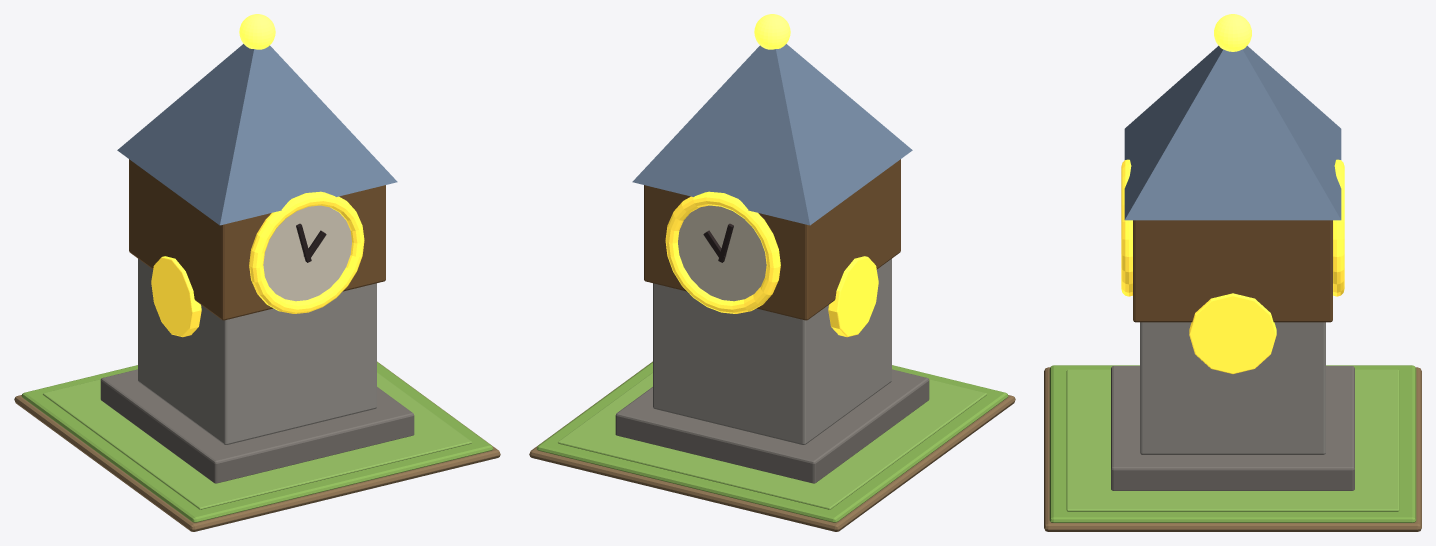
The model's file is clock_tower_lv6.glb.
3 renders of one model, left to right at view 1: azimuth 30°, elevation 25°; view 2: azimuth 150°, elevation 25°; view 3: azimuth 270°, elevation 25°, orthographic. The views are drawn at different scales.
Parts seen in each view (by area): view 1: CT_LowerShaft, CT_SpireRoof, CT_UpperHousing, Base_Inner, CT_Plinth, Base_Grass, ClockDial_-1, Base_Dirt, ClockBezel_-1, CT_SideGear_-1, CT_ApexOrb; view 2: CT_LowerShaft, CT_SpireRoof, CT_UpperHousing, Base_Inner, CT_Plinth, Base_Grass, ClockDial_1, Base_Dirt, ClockBezel_1, CT_SideGear_-1, CT_ApexOrb; view 3: CT_SpireRoof, CT_LowerShaft, CT_UpperHousing, Base_Inner, CT_Plinth, Base_Grass, CT_SideGear_1, Base_Dirt, ClockBezel_1, ClockBezel_-1, CT_ApexOrb.
Boxes of the visible parts, bbox=[...] form: CT_LowerShaft: bbox=[138, 259, 376, 444]; CT_SpireRoof: bbox=[117, 44, 397, 225]; CT_UpperHousing: bbox=[129, 159, 385, 320]; Base_Inner: bbox=[43, 372, 471, 509]; CT_Plinth: bbox=[100, 369, 414, 483]; Base_Grass: bbox=[21, 362, 493, 522]; ClockDial_-1: bbox=[263, 205, 351, 301]; Base_Dirt: bbox=[14, 361, 500, 531]; ClockBezel_-1: bbox=[249, 191, 364, 313]; CT_SideGear_-1: bbox=[151, 256, 201, 337]; CT_ApexOrb: bbox=[239, 14, 275, 49]; CT_LowerShaft: bbox=[653, 259, 891, 444]; CT_SpireRoof: bbox=[632, 44, 912, 225]; CT_UpperHousing: bbox=[644, 159, 900, 320]; Base_Inner: bbox=[558, 372, 986, 509]; CT_Plinth: bbox=[615, 369, 929, 483]; Base_Grass: bbox=[536, 362, 1008, 522]; ClockDial_1: bbox=[678, 205, 766, 301]; Base_Dirt: bbox=[529, 361, 1015, 531]; ClockBezel_1: bbox=[665, 191, 780, 313]; CT_SideGear_-1: bbox=[828, 256, 878, 337]; CT_ApexOrb: bbox=[754, 14, 790, 49]; CT_SpireRoof: bbox=[1124, 45, 1341, 220]; CT_LowerShaft: bbox=[1140, 322, 1325, 454]; CT_UpperHousing: bbox=[1133, 220, 1332, 322]; Base_Inner: bbox=[1066, 369, 1399, 511]; CT_Plinth: bbox=[1111, 366, 1354, 490]; Base_Grass: bbox=[1049, 365, 1416, 522]; CT_SideGear_1: bbox=[1189, 293, 1276, 373]; Base_Dirt: bbox=[1044, 367, 1421, 531]; ClockBezel_1: bbox=[1333, 159, 1344, 296]; ClockBezel_-1: bbox=[1121, 159, 1132, 296]; CT_ApexOrb: bbox=[1214, 14, 1251, 51].
Bounding box in the file's own units: 2.76 × 3.53 × 2.76.
